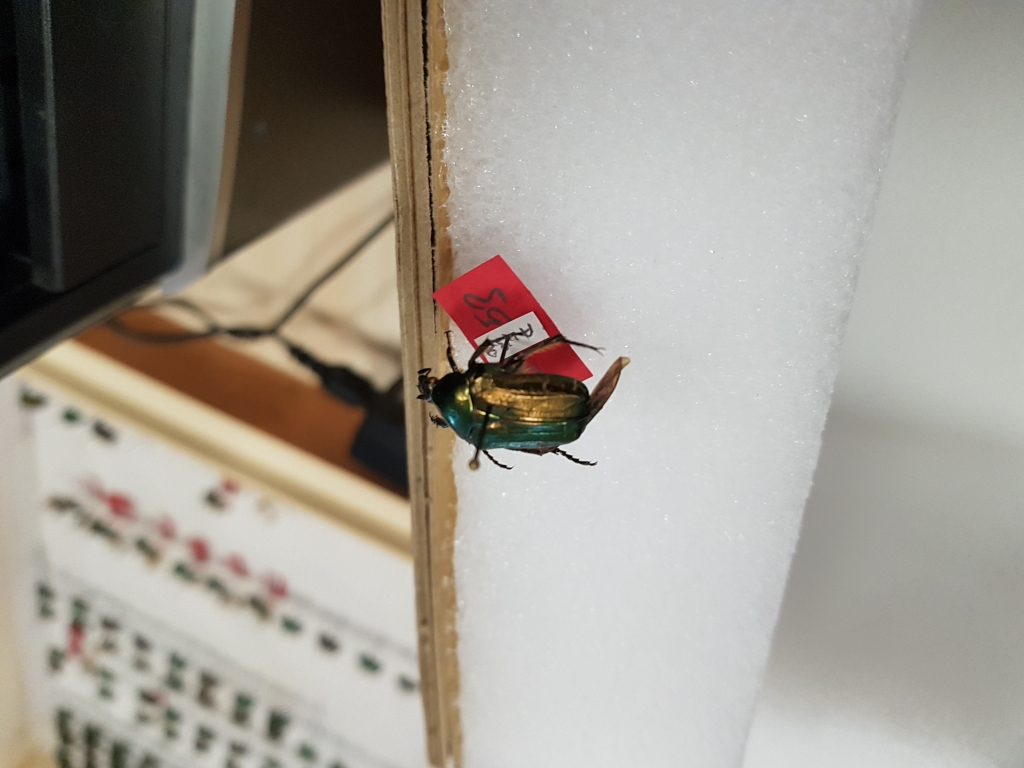Cetonia_kemali: (418, 324, 636, 484)
